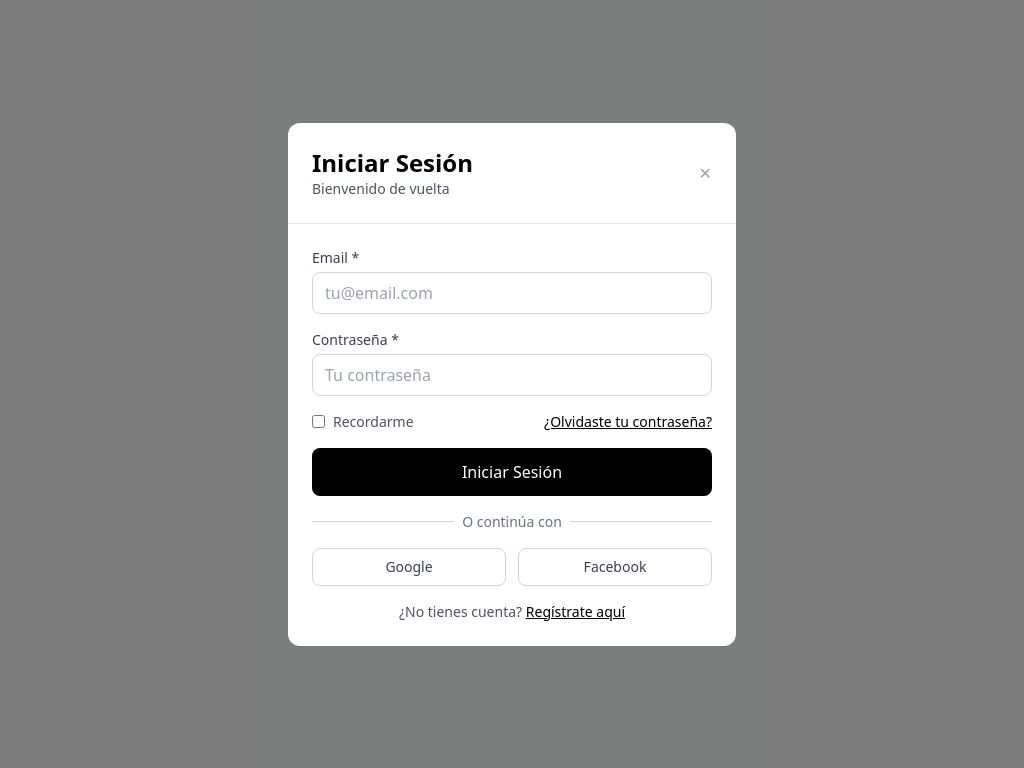
Test: LoginForm Component › shows password validation error for empty password
Type "test@example.com" into the field labelled "Email *".
click(512, 292); type("test@example.com")  # box [312,272,712,314]
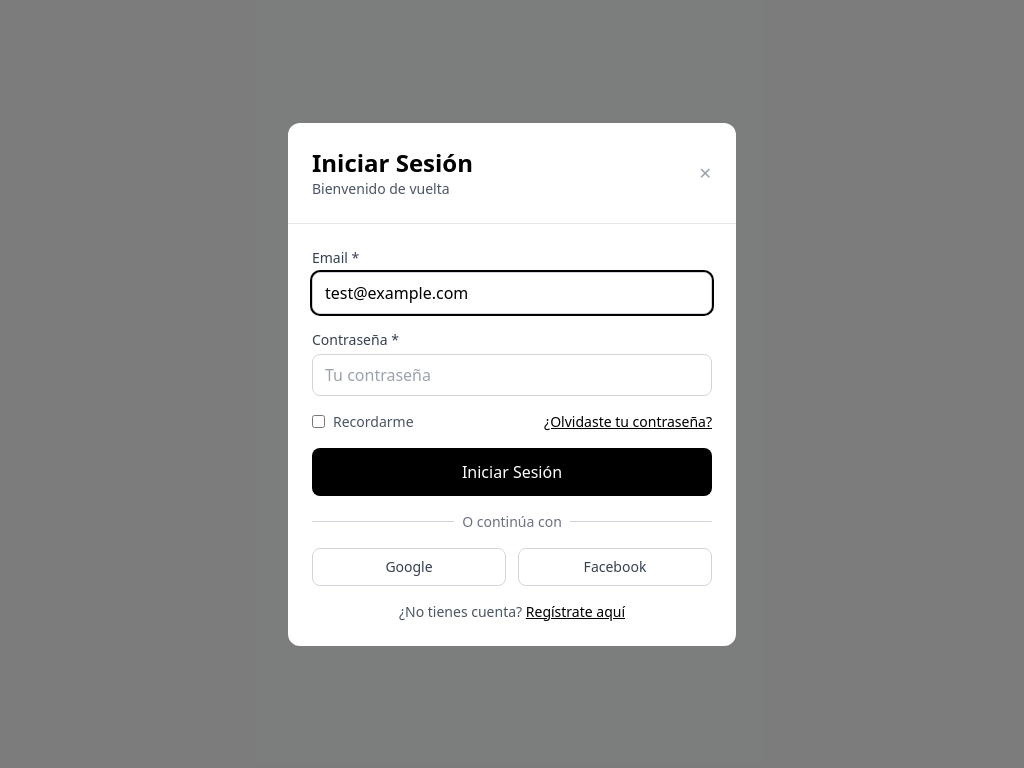
Click the button "Iniciar Sesión".
click(512, 472)  # box [312,448,712,496]
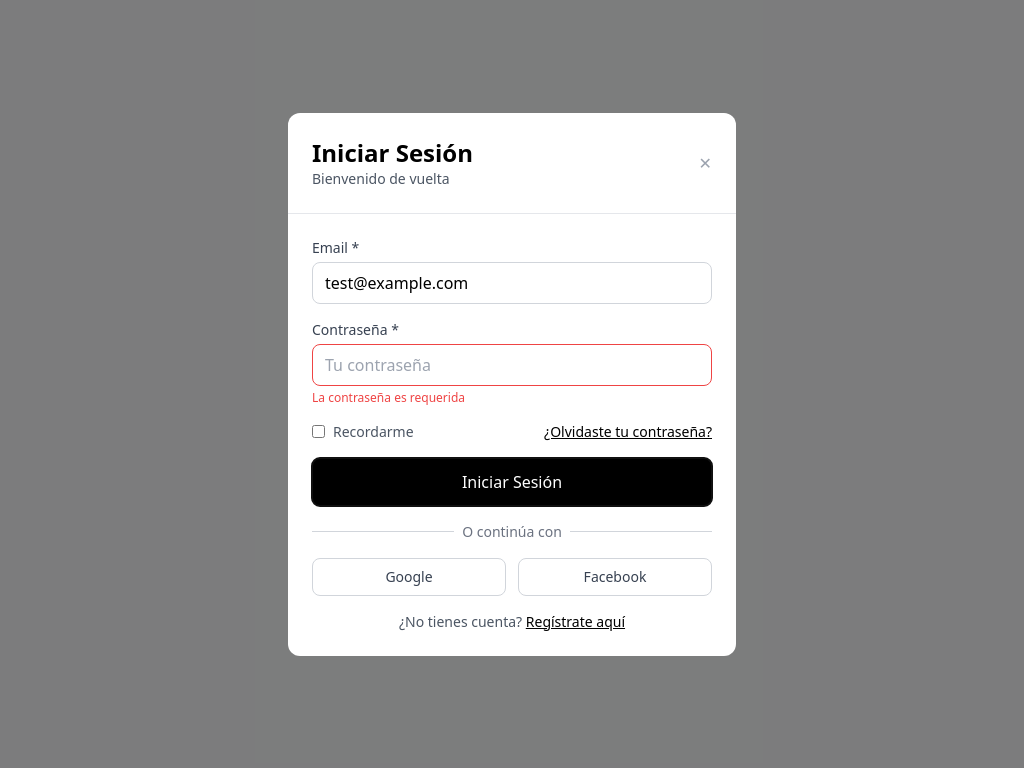
Expected: the text "La contraseña es requerida" is shown, [312,388,465,406]
